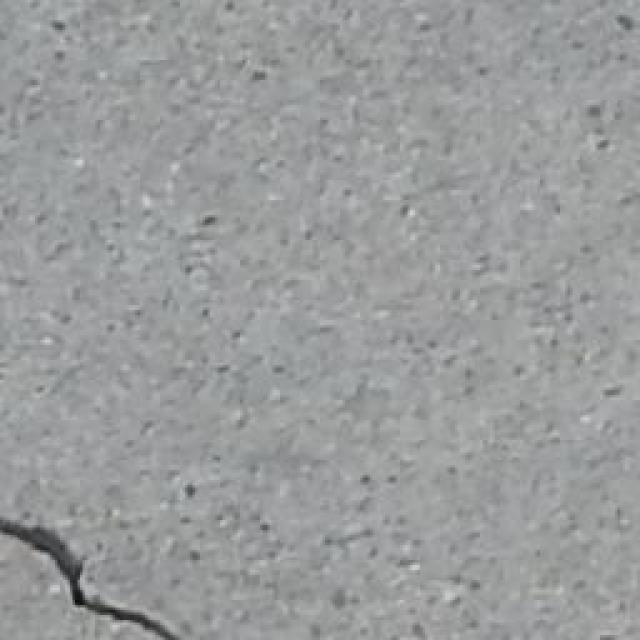concrete-crack: (3, 513, 187, 640)
